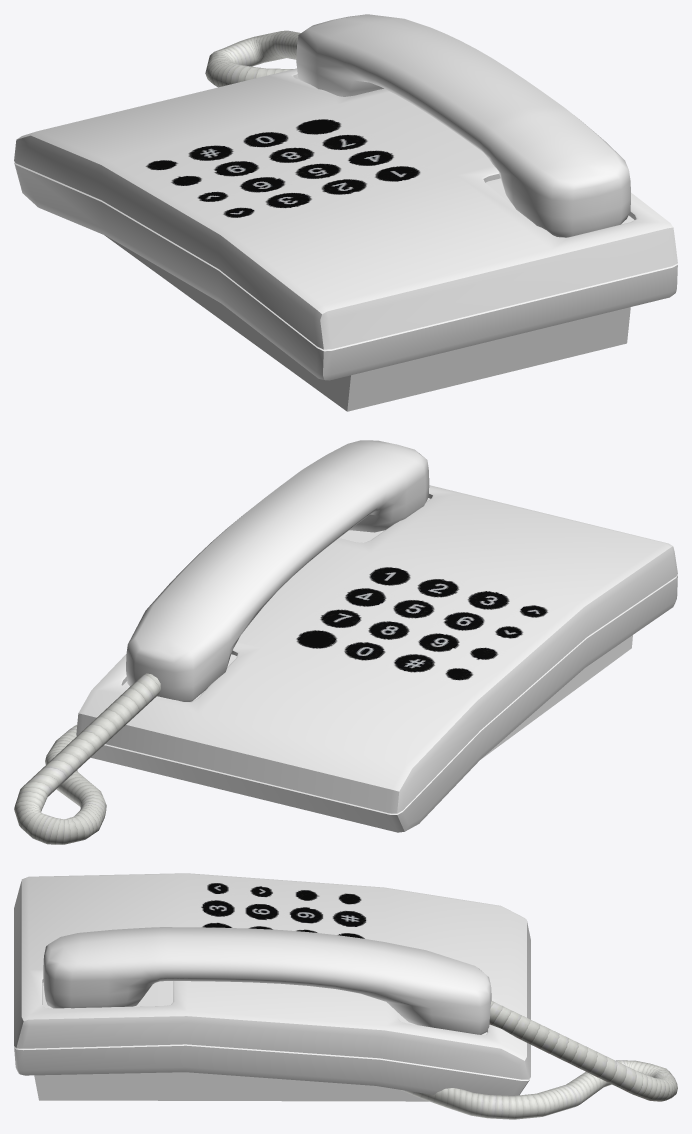
The model's file is phone.FBX.
The picture shows the model from 3 angles, top to bottom: view 1: azimuth 30°, elevation 25°; view 2: azimuth 150°, elevation 25°; view 3: azimuth 270°, elevation 25°; orthographic projection. The views are drawn at different scales.
Visible parts, largest first — view 1: phone; view 2: phone; view 3: phone.
Boxes of the visible parts, x1,y1,x2,y2 form: phone: (14,14,677,411); phone: (14,440,677,844); phone: (14,873,677,1119).
Size of the model in its own units: 0.1799 by 0.0823 by 0.3217.
Materials: 3 (3 with a texture image).
